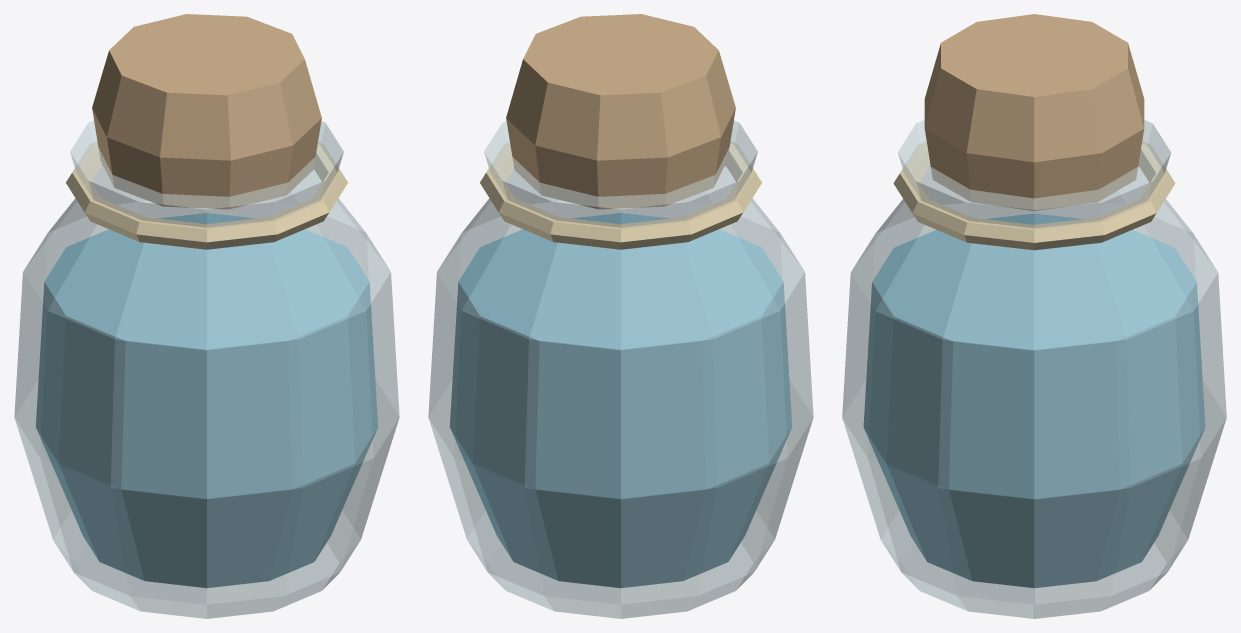
File: 16-Crafting_frasco_agua.glb
3 renders of one model, left to right at view 1: azimuth 30°, elevation 25°; view 2: azimuth 150°, elevation 25°; view 3: azimuth 270°, elevation 25°, orthographic.
Parts seen in each view (by area): view 1: SM_Frasco_M_Frasco_Vidrio, SM_Frasco_M_Frasco_Agua, SM_Frasco_M_Frasco_Corcho, SM_Frasco_M_Frasco_Cuerda; view 2: SM_Frasco_M_Frasco_Vidrio, SM_Frasco_M_Frasco_Agua, SM_Frasco_M_Frasco_Corcho, SM_Frasco_M_Frasco_Cuerda; view 3: SM_Frasco_M_Frasco_Vidrio, SM_Frasco_M_Frasco_Agua, SM_Frasco_M_Frasco_Corcho, SM_Frasco_M_Frasco_Cuerda.
Part boxes in pixels (bbox=[...]): SM_Frasco_M_Frasco_Vidrio: bbox=[14, 120, 399, 618]; SM_Frasco_M_Frasco_Agua: bbox=[35, 213, 378, 587]; SM_Frasco_M_Frasco_Corcho: bbox=[92, 14, 321, 209]; SM_Frasco_M_Frasco_Cuerda: bbox=[66, 142, 347, 249]; SM_Frasco_M_Frasco_Vidrio: bbox=[428, 120, 813, 618]; SM_Frasco_M_Frasco_Agua: bbox=[449, 213, 792, 587]; SM_Frasco_M_Frasco_Corcho: bbox=[506, 14, 735, 209]; SM_Frasco_M_Frasco_Cuerda: bbox=[480, 142, 761, 249]; SM_Frasco_M_Frasco_Vidrio: bbox=[842, 120, 1226, 618]; SM_Frasco_M_Frasco_Agua: bbox=[863, 213, 1205, 588]; SM_Frasco_M_Frasco_Corcho: bbox=[924, 14, 1144, 210]; SM_Frasco_M_Frasco_Cuerda: bbox=[893, 142, 1175, 250].
Bounding box in the file's own units: 0.18 × 0.262 × 0.18.
